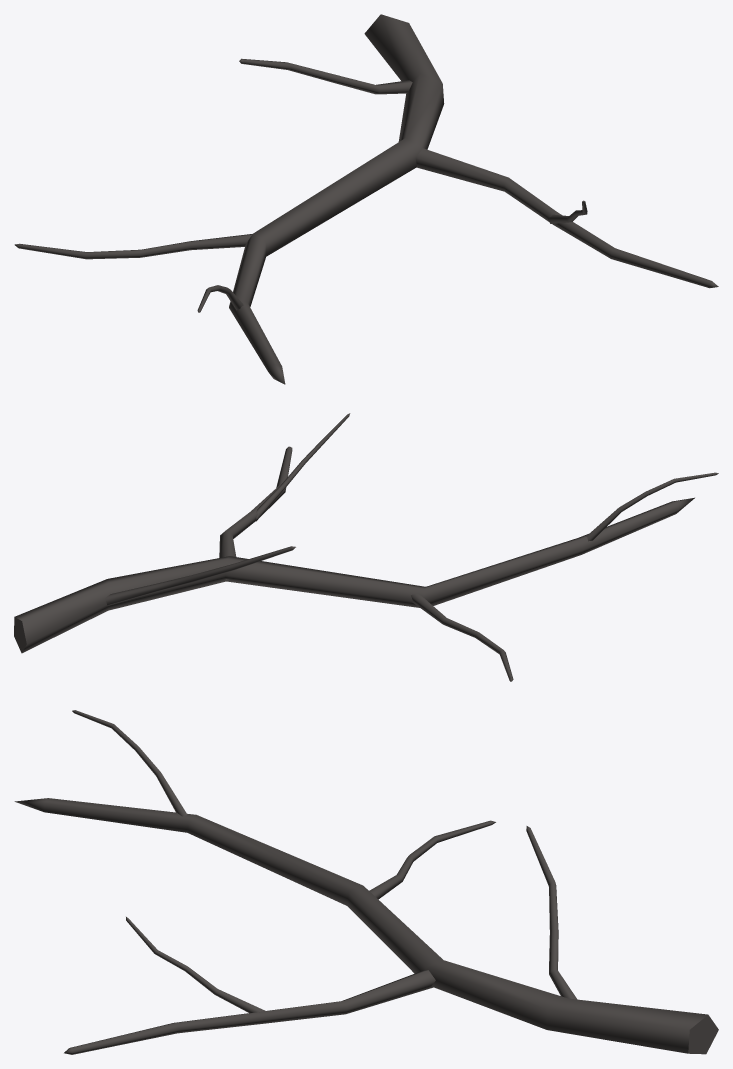
File: P_branch_dead_05_LD.fbx
The picture shows the model from 3 angles, top to bottom: view 1: azimuth 30°, elevation 25°; view 2: azimuth 150°, elevation 25°; view 3: azimuth 270°, elevation 25°; orthographic projection. The views are drawn at different scales.
Visible parts, largest first — view 1: P_branch_dead_05; view 2: P_branch_dead_05; view 3: P_branch_dead_05.
Part boxes in pixels (x1=…): P_branch_dead_05: x1=14, y1=14, x2=718, y2=384; P_branch_dead_05: x1=14, y1=413, x2=718, y2=681; P_branch_dead_05: x1=14, y1=710, x2=718, y2=1054.
Size of the model in its own units: 69.16 by 14.87 by 81.73.
